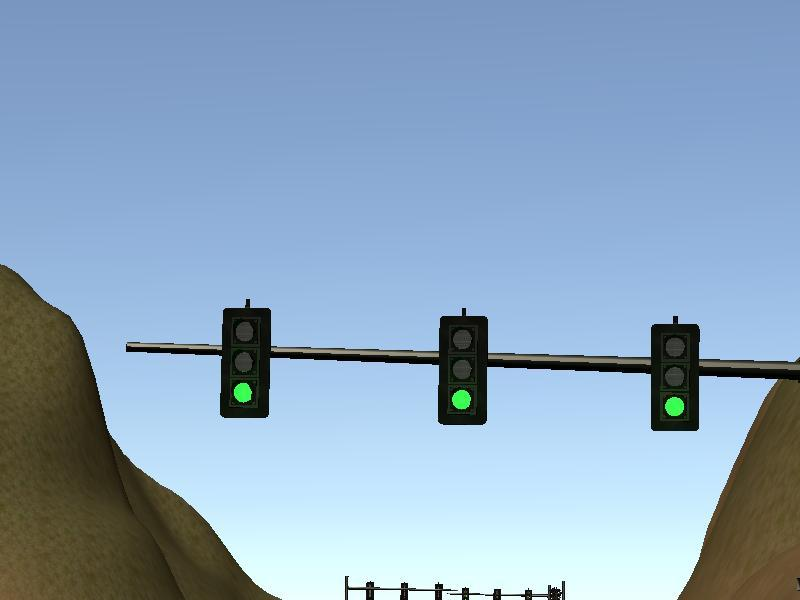Green: (438, 313, 487, 422), (652, 327, 699, 430), (224, 310, 270, 415)
